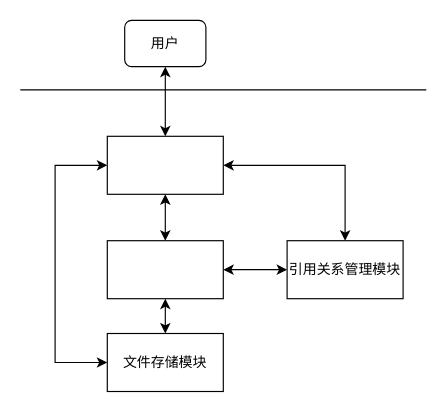
The diagram is 448 pixels wide and 412 high, and some of its shapes have lost their labels. The centre of each missing label's shape, as x and y in pixels:
"文档存储模块" goes at point 164,269.
"文档编辑模块" goes at point 164,164.
